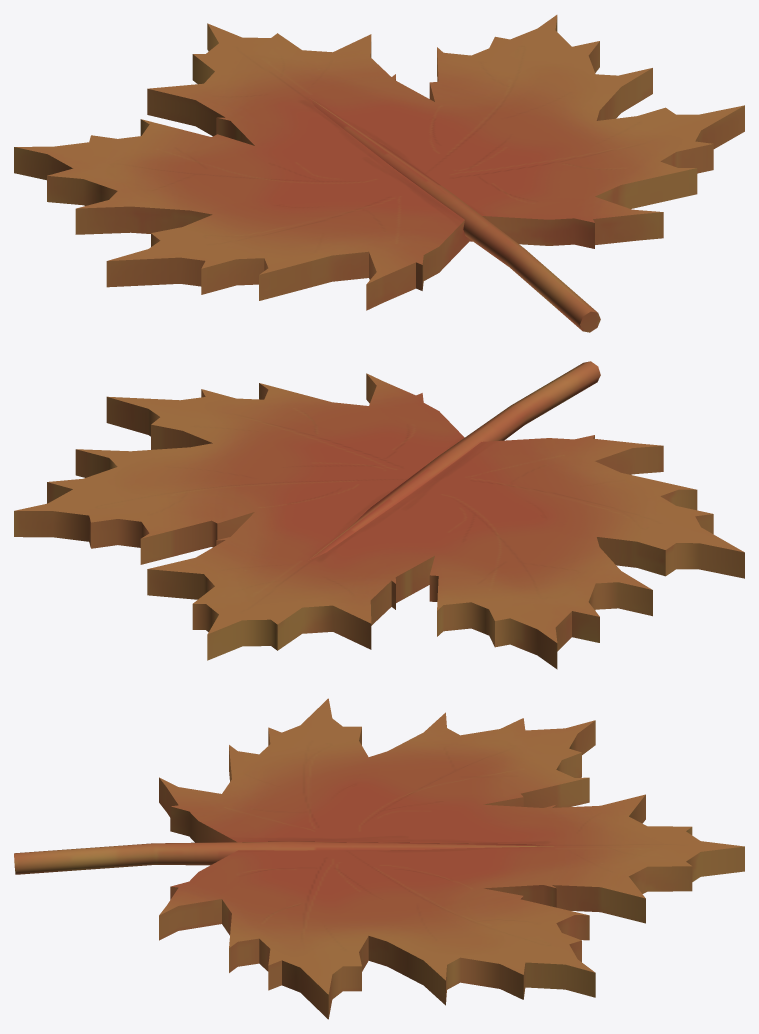
The model's file is FolhaCanada.fbx.
The picture shows the model from 3 angles, top to bottom: view 1: azimuth 30°, elevation 25°; view 2: azimuth 150°, elevation 25°; view 3: azimuth 270°, elevation 25°; orthographic projection. The views are drawn at different scales.
Parts seen in each view (by area): view 1: FolhaCanada; view 2: FolhaCanada; view 3: FolhaCanada.
Part boxes in pixels (x1,y1,x2,y2): FolhaCanada: (14,15,744,332); FolhaCanada: (14,361,744,669); FolhaCanada: (14,698,744,1019).
Size of the model in its own units: 484 by 24.66 by 503.
